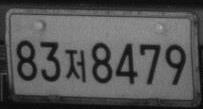3: (40, 40, 61, 82)
4: (115, 42, 138, 84)
7: (139, 42, 161, 85)
8: (91, 41, 113, 84), (16, 39, 38, 81)
9: (165, 43, 186, 85)
저: (64, 48, 86, 82)
